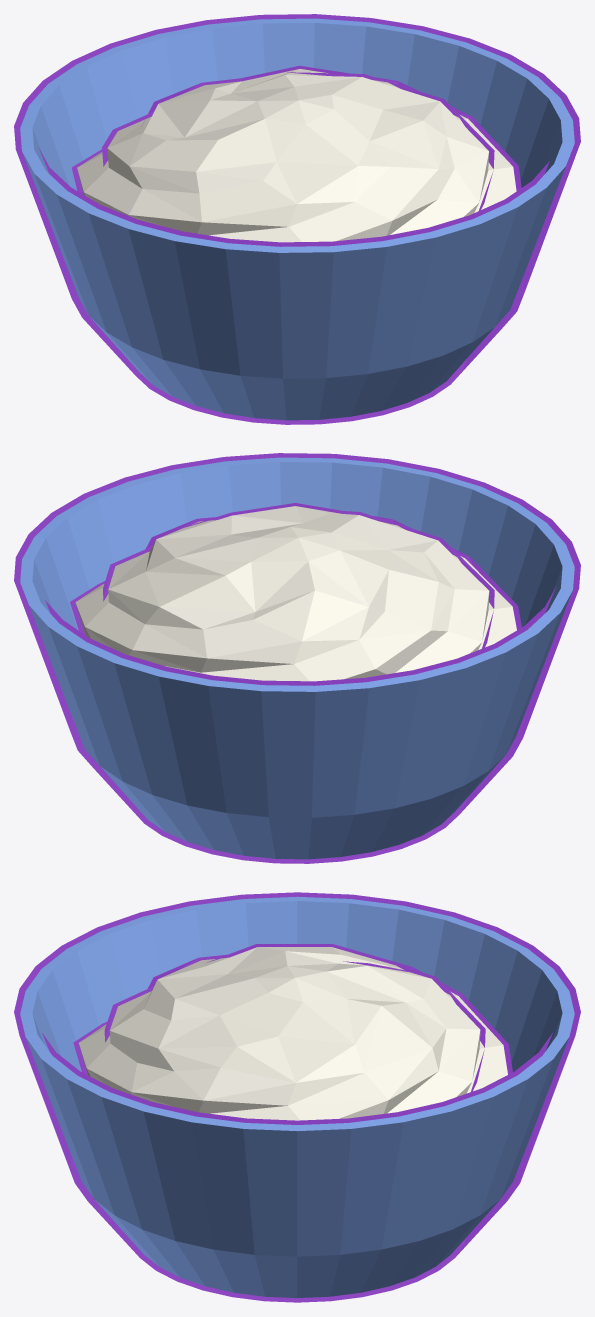
File: massa de bolo.glb
The picture shows the model from 3 angles, top to bottom: view 1: azimuth 30°, elevation 25°; view 2: azimuth 150°, elevation 25°; view 3: azimuth 270°, elevation 25°; orthographic projection.
Visible parts, largest first — view 1: Cylinder.008, chantilly.004; view 2: Cylinder.008, chantilly.004; view 3: Cylinder.008, chantilly.004.
Part boxes in pixels (x1,y1,x2,y2): Cylinder.008: (14, 14, 580, 424); chantilly.004: (71, 65, 521, 242); Cylinder.008: (14, 453, 580, 863); chantilly.004: (70, 503, 521, 681); Cylinder.008: (14, 892, 580, 1302); chantilly.004: (73, 944, 512, 1120).
Bounding box in the file's own units: 20.93 × 10.38 × 20.93.
